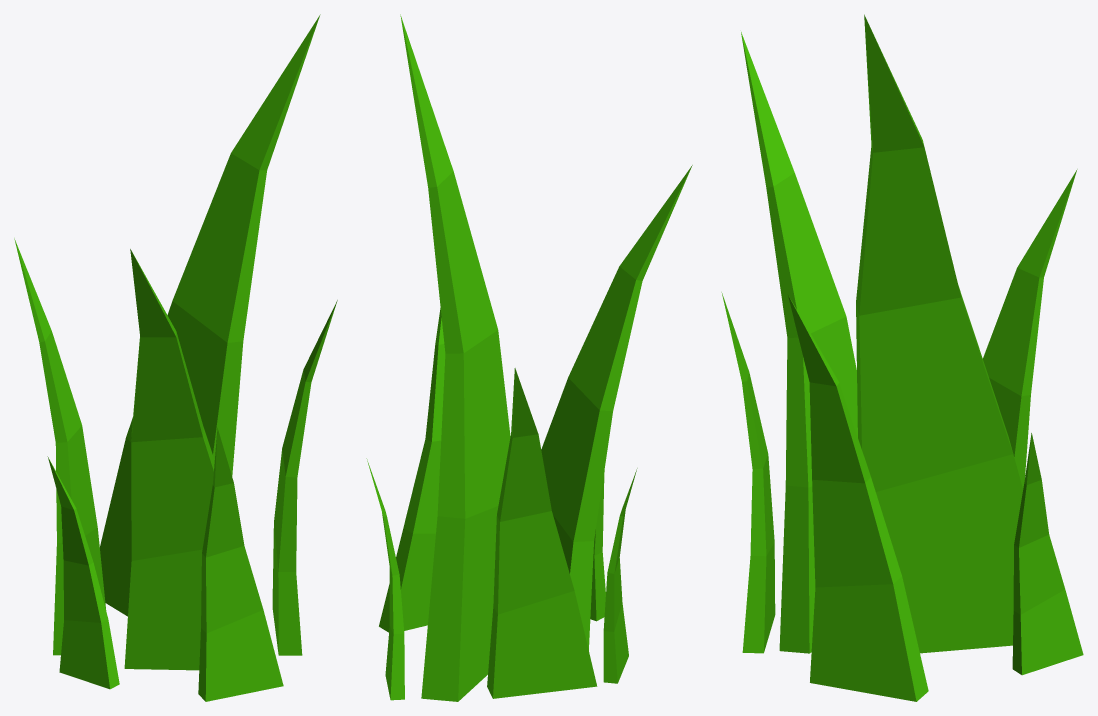
The model's file is stm_env_grass_patch.fbx.
The picture shows the model from 3 angles, left to right: view 1: azimuth 30°, elevation 25°; view 2: azimuth 150°, elevation 25°; view 3: azimuth 270°, elevation 25°; orthographic projection. The views are drawn at different scales.
Parts seen in each view (by area): view 1: Grass_Patch_1; view 2: Grass_Patch_1; view 3: Grass_Patch_1.
Boxes of the visible parts, x1,y1,x2,y2 form: Grass_Patch_1: (14, 14, 337, 701); Grass_Patch_1: (366, 14, 692, 701); Grass_Patch_1: (721, 14, 1083, 701).
Size of the model in its own units: 87.45 by 199 by 94.2.
